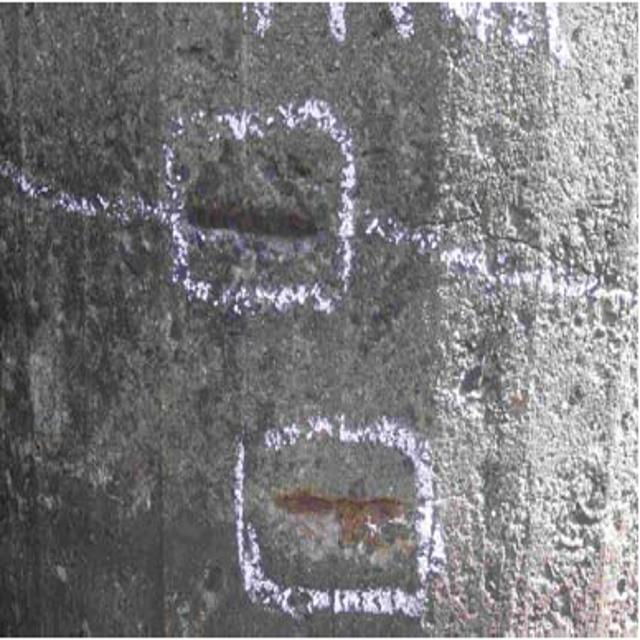spalling: (173, 137, 338, 284), (256, 472, 428, 572)
